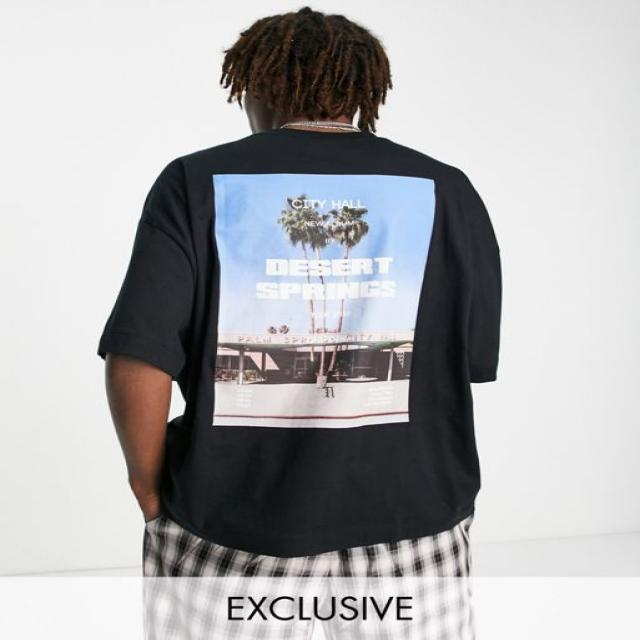tshirt: (98, 126, 506, 552), (137, 512, 479, 639)
